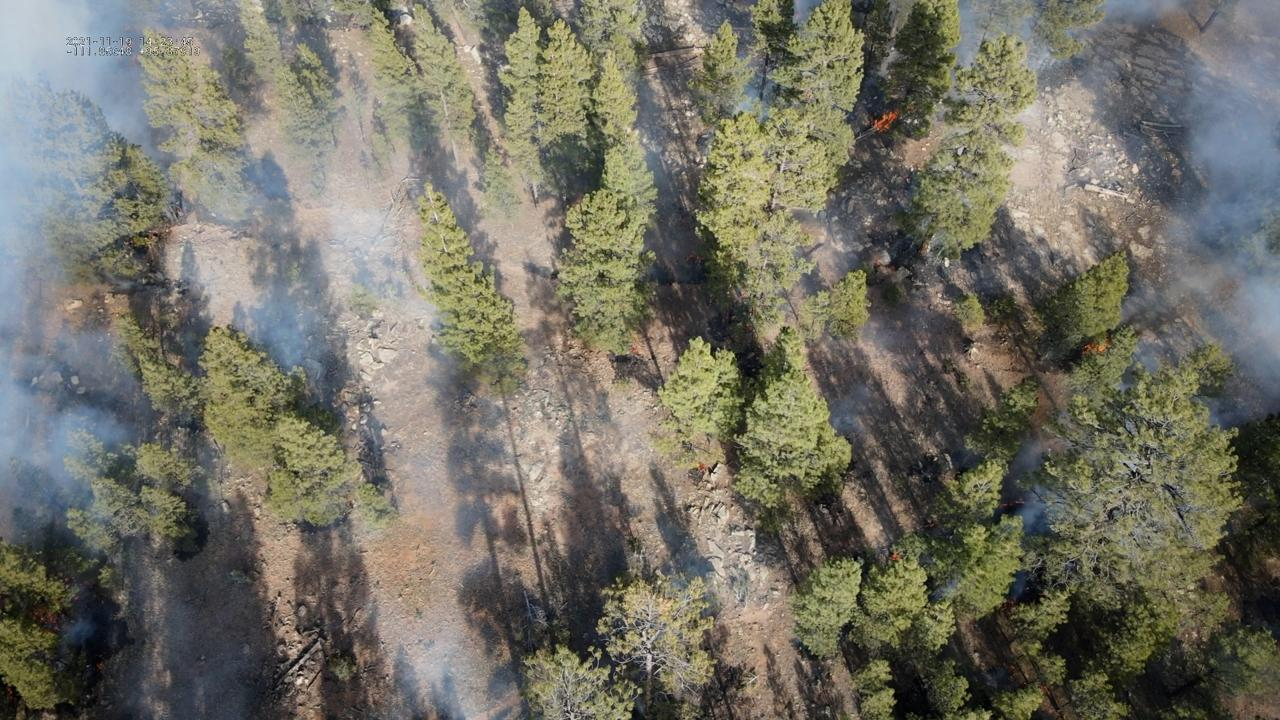fire: (28, 600, 61, 631), (872, 110, 898, 134), (1080, 340, 1106, 356), (697, 462, 708, 472), (892, 550, 900, 562)
smoke: (0, 0, 449, 650), (994, 0, 1280, 609), (383, 634, 507, 720), (933, 0, 992, 102), (726, 52, 777, 128), (820, 378, 875, 436), (788, 0, 828, 29), (928, 577, 960, 606)
